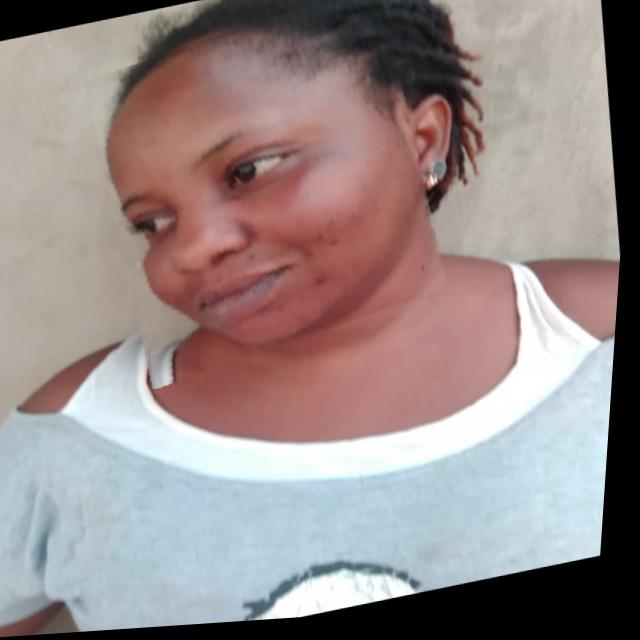sad: (75, 0, 462, 391)
